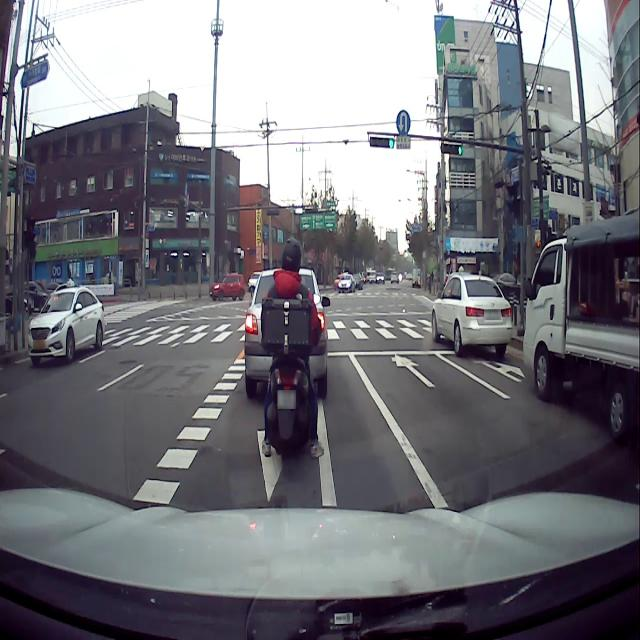Green Light: (387, 138, 395, 150), (456, 145, 463, 155)
